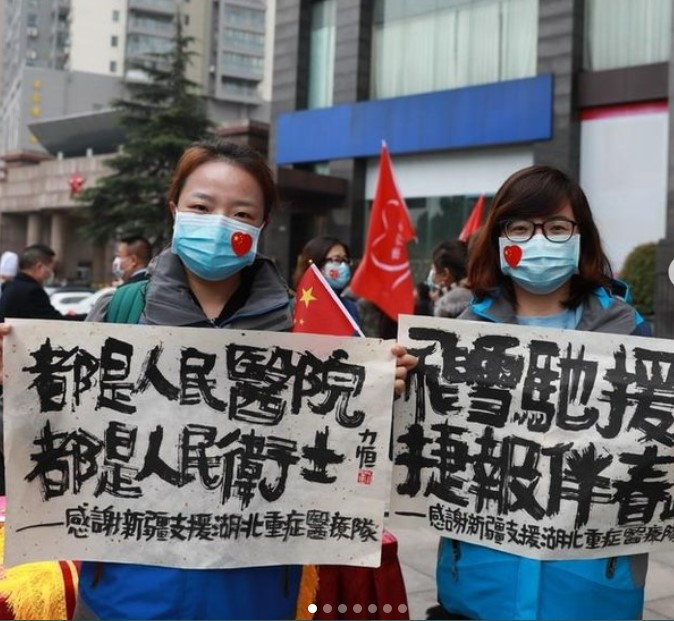face_with_mask: (169, 151, 269, 279), (493, 174, 584, 291), (301, 238, 354, 291), (420, 238, 473, 289), (107, 234, 147, 279), (20, 244, 58, 291)
